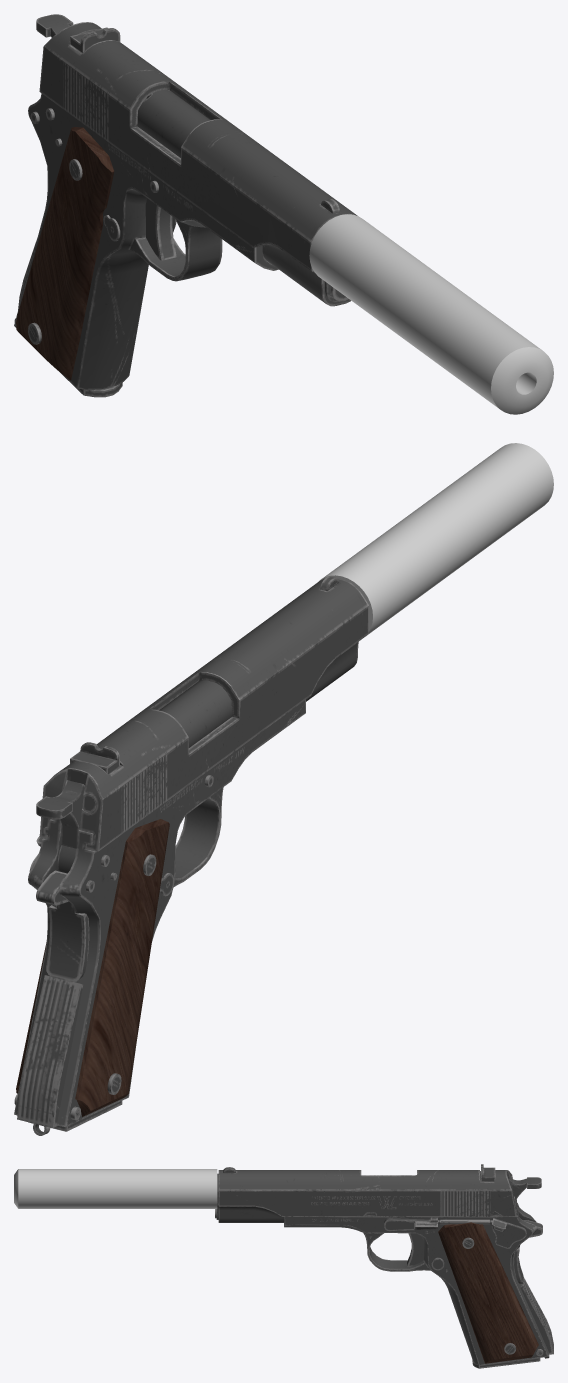
The model's file is m1911pistol.obj.
3 renders of one model, top to bottom at view 1: azimuth 30°, elevation 25°; view 2: azimuth 150°, elevation 25°; view 3: azimuth 270°, elevation 25°, orthographic. The views are drawn at different scales.
Visible parts, largest first — view 1: Cube_low_Cube.013, silencer, Plane_low_Plane.001, Cube.001_low_Cube.014, Cylinder_low_Cylinder.007, Cube.002_low_Cube.015, Cylinder.002_low_Cylinder.009, Cube.005_low_Cube.018, Cube.009_low_Cube.022; view 2: Cube_low_Cube.013, silencer, Plane_low_Plane.001, Cube.001_low_Cube.014, Cube.007_low_Cube.020, Cube.008_low_Cube.021, Cylinder_low_Cylinder.007, Cube.009_low_Cube.022, Cylinder.002_low_Cylinder.009, Cube.005_low_Cube.018; view 3: Cube_low_Cube.013, silencer, Cube.001_low_Cube.014, Plane_low_Plane.001, Cube.007_low_Cube.020, Cube.004_low_Cube.017, Cube.003_low_Cube.016, Cube.002_low_Cube.015, Cube.009_low_Cube.022, Cube.008_low_Cube.021, Cylinder.002_low_Cylinder.009, Cylinder.001_low_Cylinder.008 (+1 smaller).
Boxes of the visible parts, x1,y1,x2,y2 form: Cube_low_Cube.013: [39, 22, 357, 306]; silencer: [309, 214, 553, 414]; Plane_low_Plane.001: [14, 93, 278, 389]; Cube.001_low_Cube.014: [16, 127, 114, 380]; Cylinder_low_Cylinder.007: [137, 89, 209, 157]; Cube.002_low_Cube.015: [145, 198, 176, 260]; Cylinder.002_low_Cylinder.009: [14, 108, 158, 344]; Cube.005_low_Cube.018: [70, 27, 120, 52]; Cube.009_low_Cube.022: [36, 14, 73, 37]; Cube_low_Cube.013: [39, 576, 368, 851]; silencer: [318, 443, 553, 636]; Plane_low_Plane.001: [14, 700, 305, 1126]; Cube.001_low_Cube.014: [16, 819, 169, 1116]; Cube.007_low_Cube.020: [17, 975, 83, 1127]; Cube.008_low_Cube.021: [36, 870, 89, 981]; Cylinder_low_Cylinder.007: [159, 680, 232, 747]; Cube.009_low_Cube.022: [36, 780, 84, 873]; Cylinder.002_low_Cylinder.009: [14, 775, 213, 1120]; Cube.005_low_Cube.018: [70, 742, 119, 773]; Cube_low_Cube.013: [218, 1167, 516, 1222]; silencer: [14, 1169, 217, 1208]; Cube.001_low_Cube.014: [438, 1222, 538, 1363]; Plane_low_Plane.001: [284, 1196, 549, 1365]; Cube.007_low_Cube.020: [520, 1278, 553, 1354]; Cube.004_low_Cube.017: [491, 1218, 526, 1248]; Cube.003_low_Cube.016: [384, 1217, 437, 1231]; Cube.002_low_Cube.015: [407, 1233, 423, 1266]; Cube.009_low_Cube.022: [508, 1175, 541, 1216]; Cube.008_low_Cube.021: [513, 1220, 542, 1283]; Cylinder.002_low_Cylinder.009: [462, 1237, 543, 1356]; Cylinder.001_low_Cylinder.008: [438, 1219, 492, 1224].
Size of the model in its own units: 2.38 by 9.52 by 23.68.
